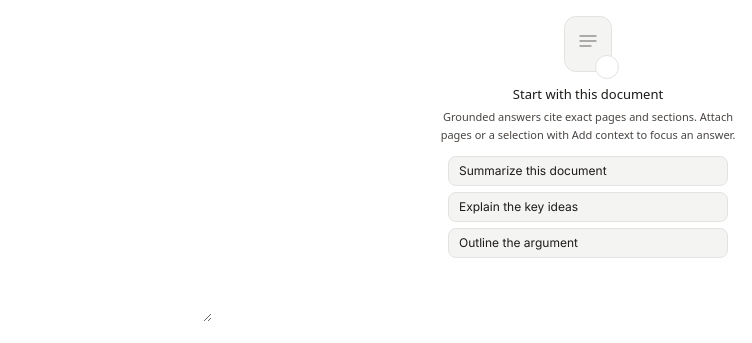
it: empty thread starters › offers starters without repeating the document name, and fills and focuses the composer without sending
The width and height of the screenshot is (752, 343).
Expected: the element with test id "chat-empty-thread" does not show "Raft Paper", [441, 16, 735, 258]
Click the button "Summarize this document" at (588, 171), box [448, 156, 728, 186]
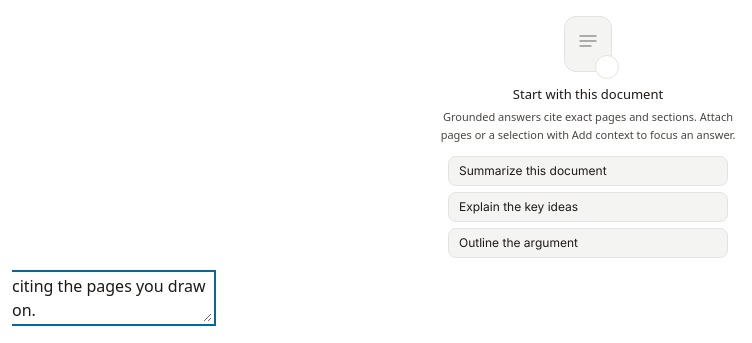
Expected: the text box named "Message Reader AI" holds "Summarize “Raft Paper” in a few short paragraphs, citing the pages you draw on.", [12, 274, 212, 322]
